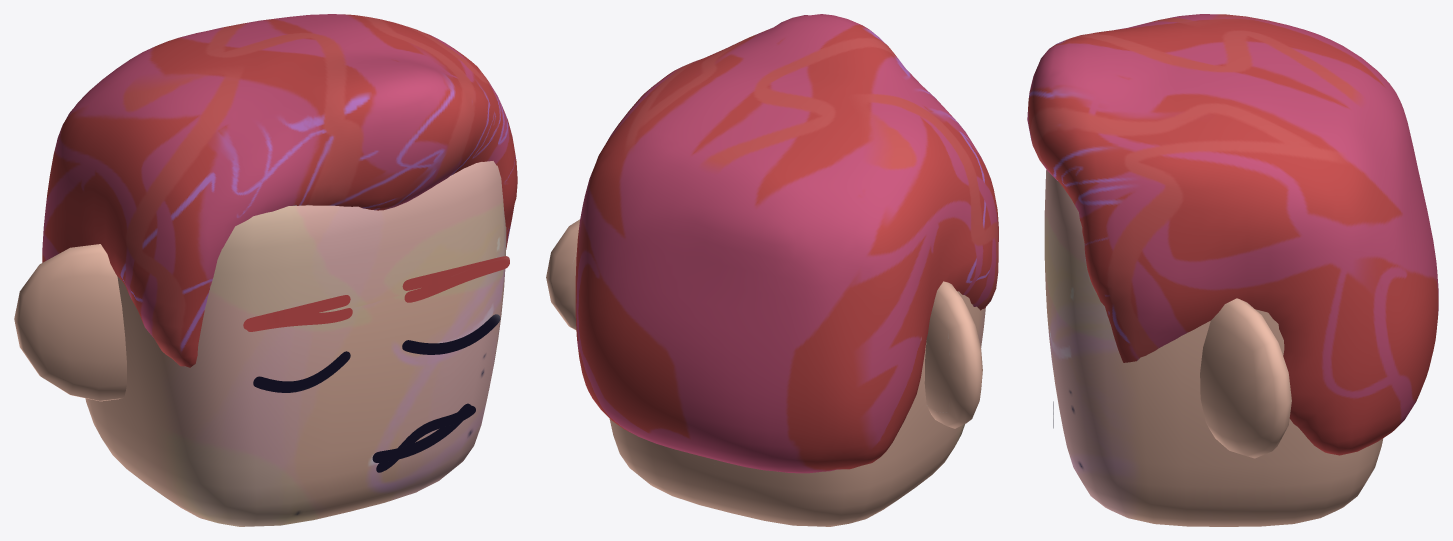
The model's file is cody_character_13.glb.
3 views of the same model, side by side, from view 1: azimuth 30°, elevation 25°; view 2: azimuth 150°, elevation 25°; view 3: azimuth 270°, elevation 25° (orthographic). The views are drawn at different scales.
Visible parts, largest first — view 1: mad face, content face; view 2: mad face; view 3: mad face, content face.
Part boxes in pixels (box(x1,y1,x2,y2)): mad face: box(14, 14, 517, 526); content face: box(117, 161, 509, 462); mad face: box(546, 14, 998, 526); mad face: box(1027, 14, 1438, 526); content face: box(1044, 169, 1084, 416).
Size of the model in its own units: 2.36 by 2.13 by 1.78.
Materials: 2 (2 with a texture image).
